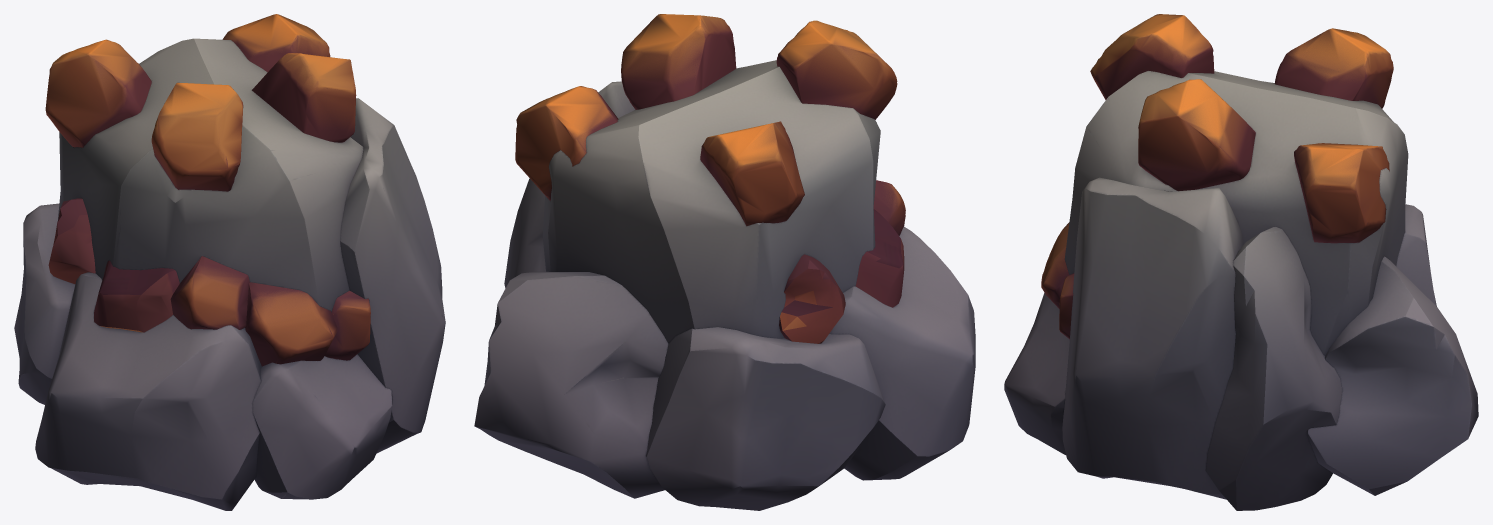
The model's file is Ore_Borze.fbx.
3 renders of one model, left to right at view 1: azimuth 30°, elevation 25°; view 2: azimuth 150°, elevation 25°; view 3: azimuth 270°, elevation 25°, orthographic. The views are drawn at different scales.
Visible parts, largest first — view 1: Cube.001; view 2: Cube.001; view 3: Cube.001.
Part boxes in pixels (box(x1,y1,x2,y2)): Cube.001: box(14, 14, 445, 510); Cube.001: box(474, 14, 975, 510); Cube.001: box(1004, 14, 1478, 510).
Size of the model in its own units: 251 by 232 by 250.
2 materials, 2 textured.
